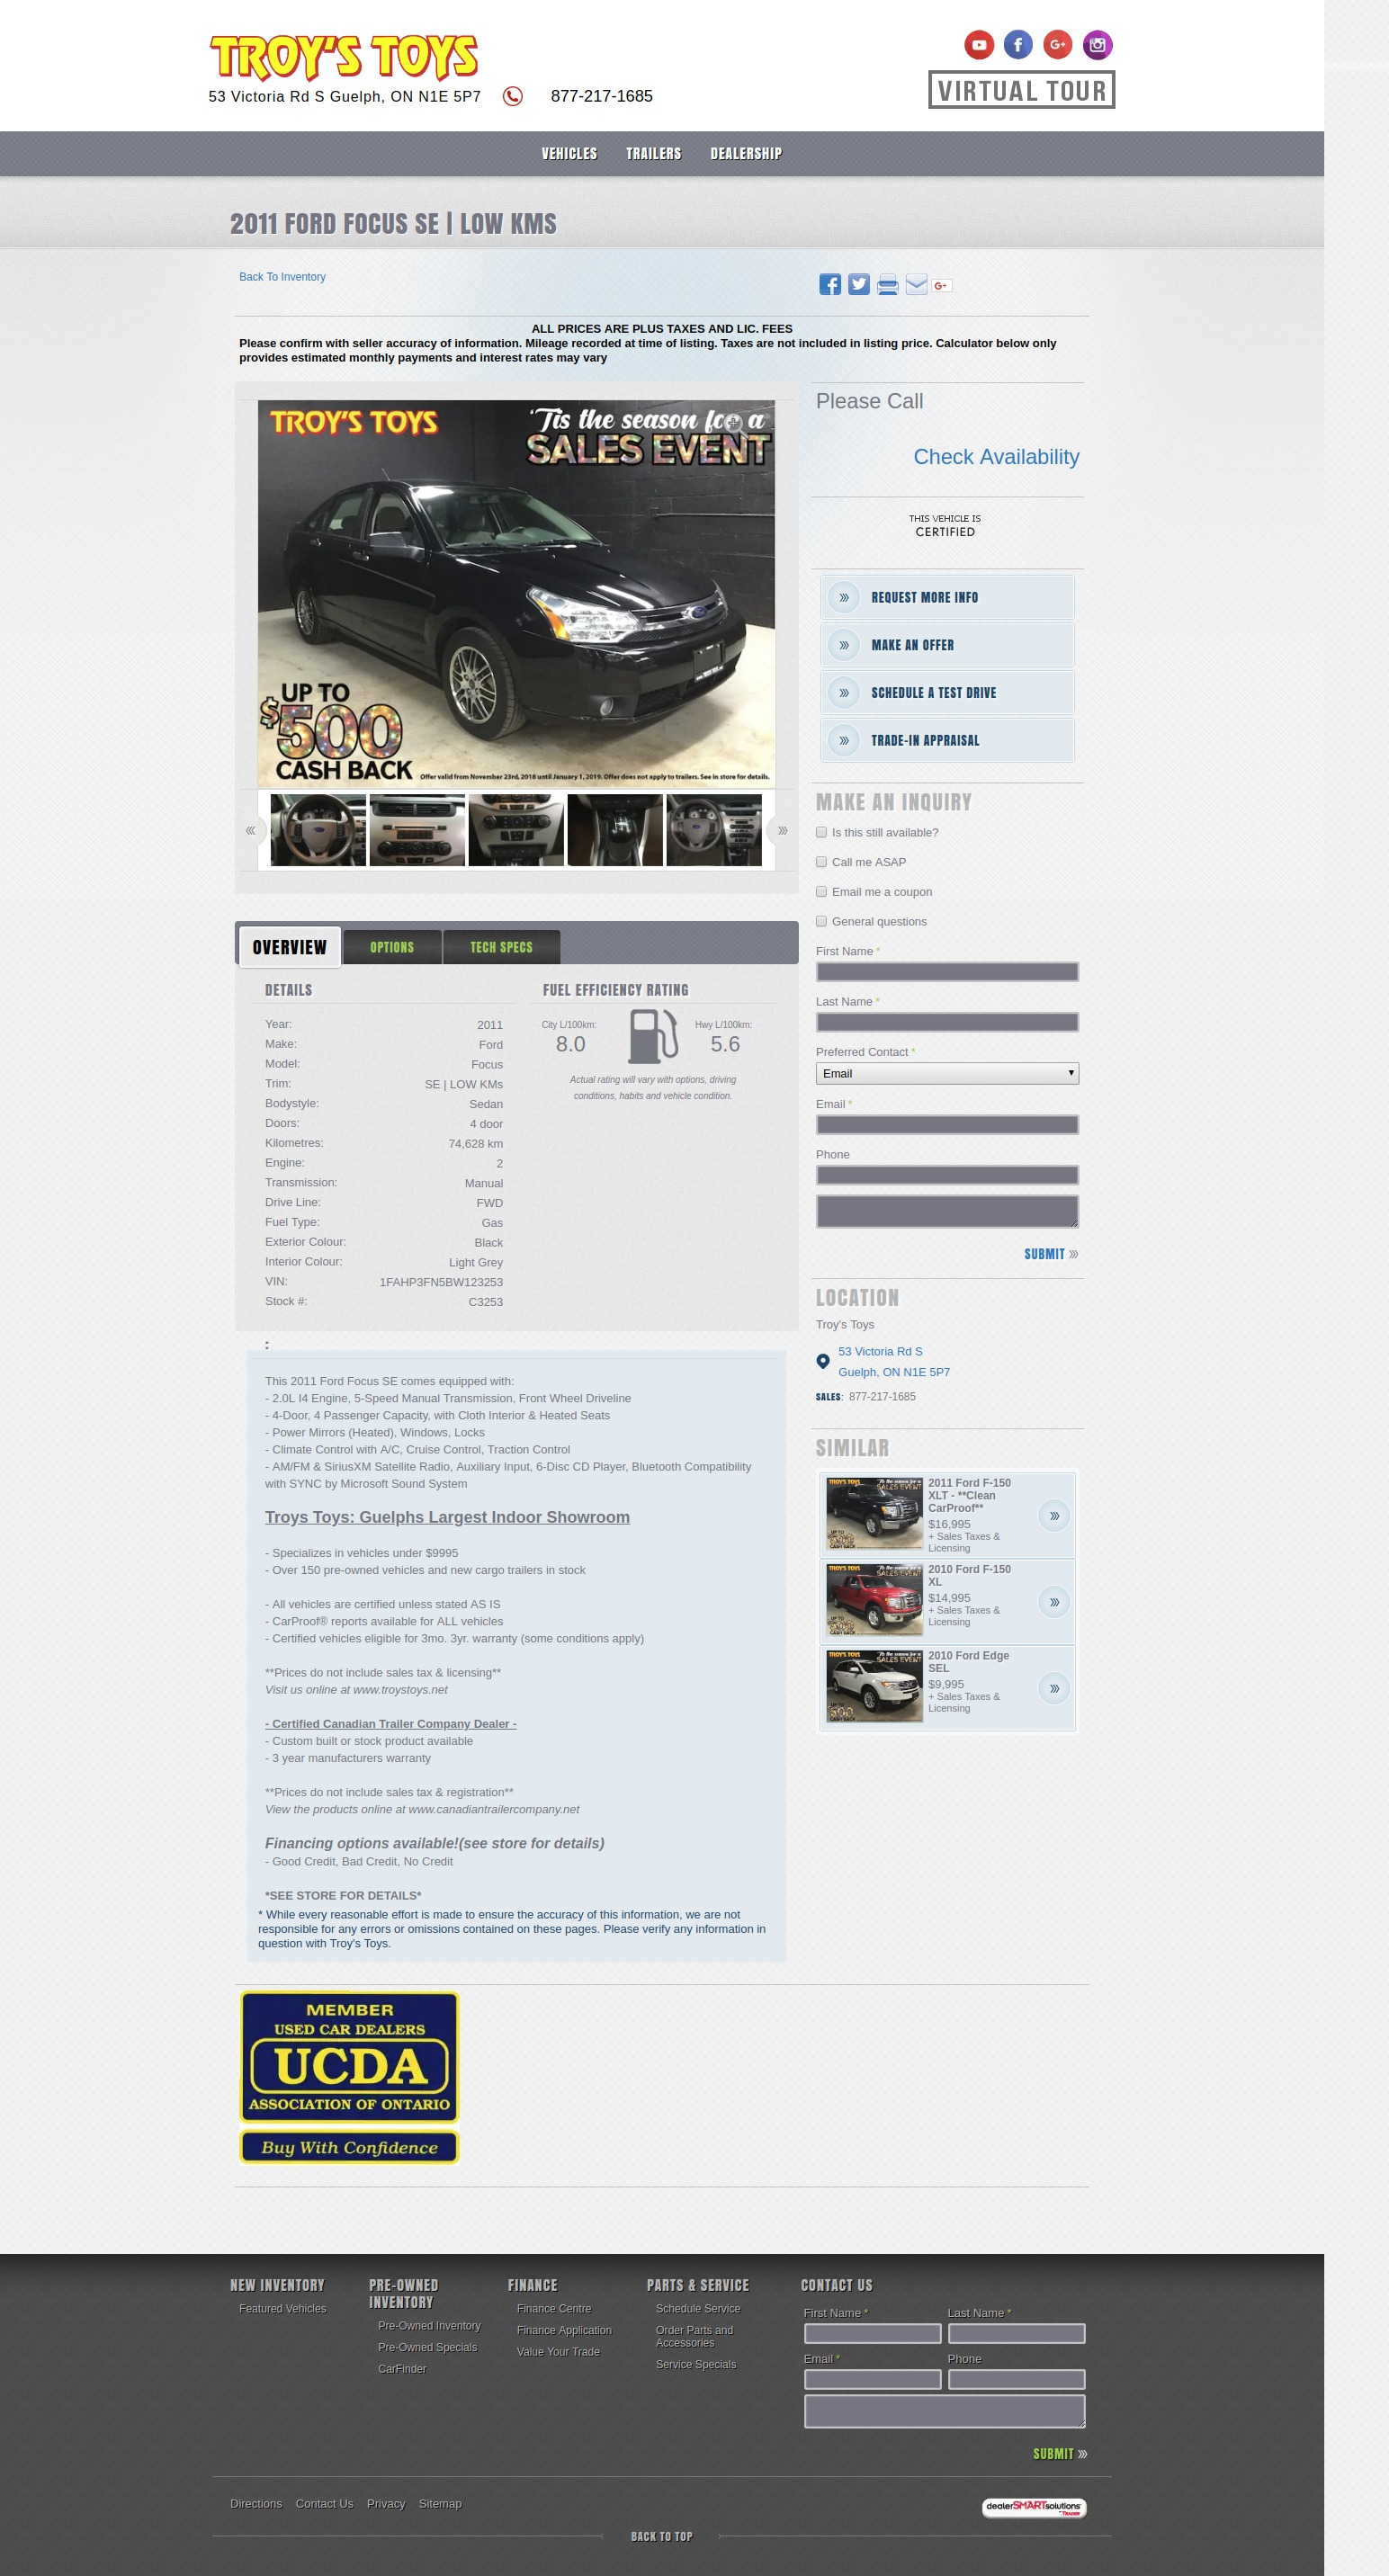car: (778, 826, 790, 839)
